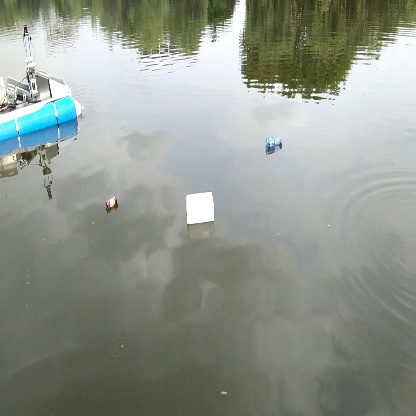bottle: (101, 193, 122, 215), (261, 133, 284, 150)
plastic-garbage: (181, 190, 220, 227)
